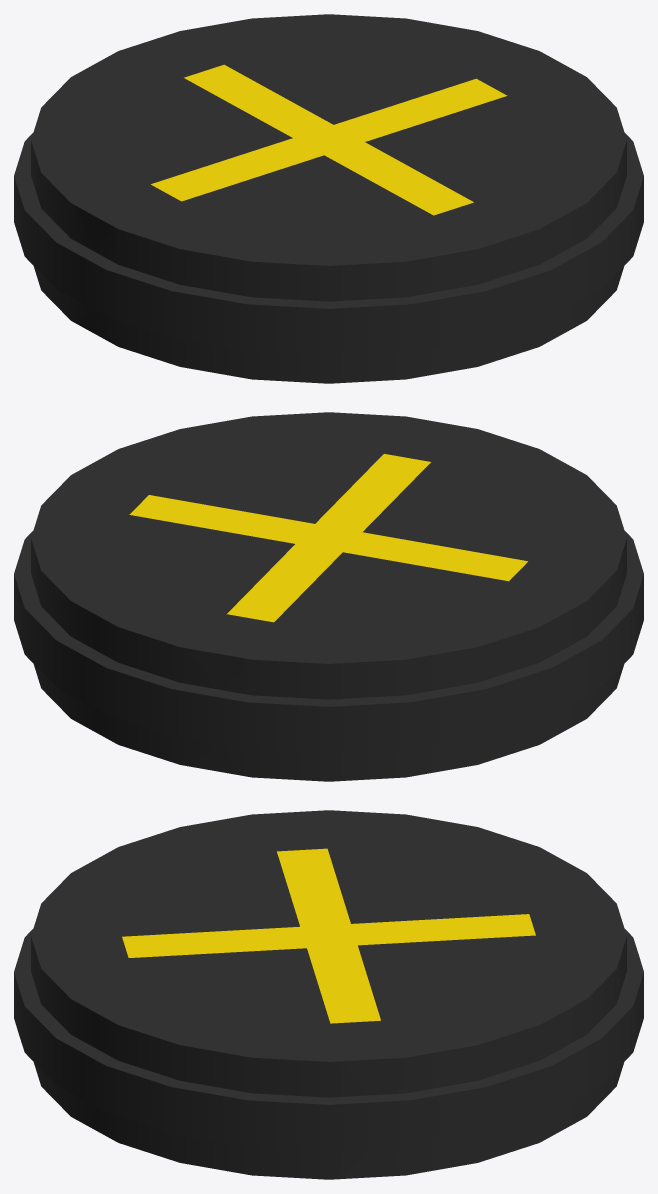
File: MineModel.FBX
The picture shows the model from 3 angles, top to bottom: view 1: azimuth 30°, elevation 25°; view 2: azimuth 150°, elevation 25°; view 3: azimuth 270°, elevation 25°; orthographic projection.
Parts seen in each view (by area): view 1: Cylinder01; view 2: Cylinder01; view 3: Cylinder01.
Part boxes in pixels (x1,y1,x2,y2): Cylinder01: [14, 14, 643, 383]; Cylinder01: [14, 412, 643, 781]; Cylinder01: [14, 810, 643, 1179].
Bounding box in the file's own units: 73.75 × 15.21 × 73.75.
